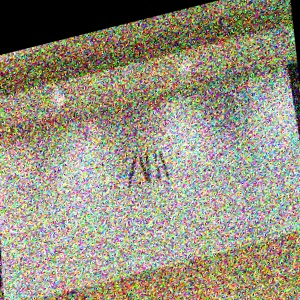zara: (98, 62, 246, 222)
